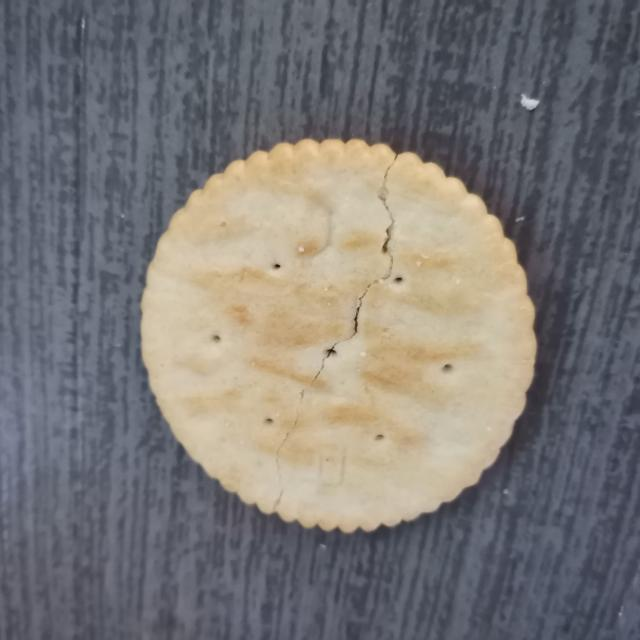Fracture: (261, 146, 417, 526)
